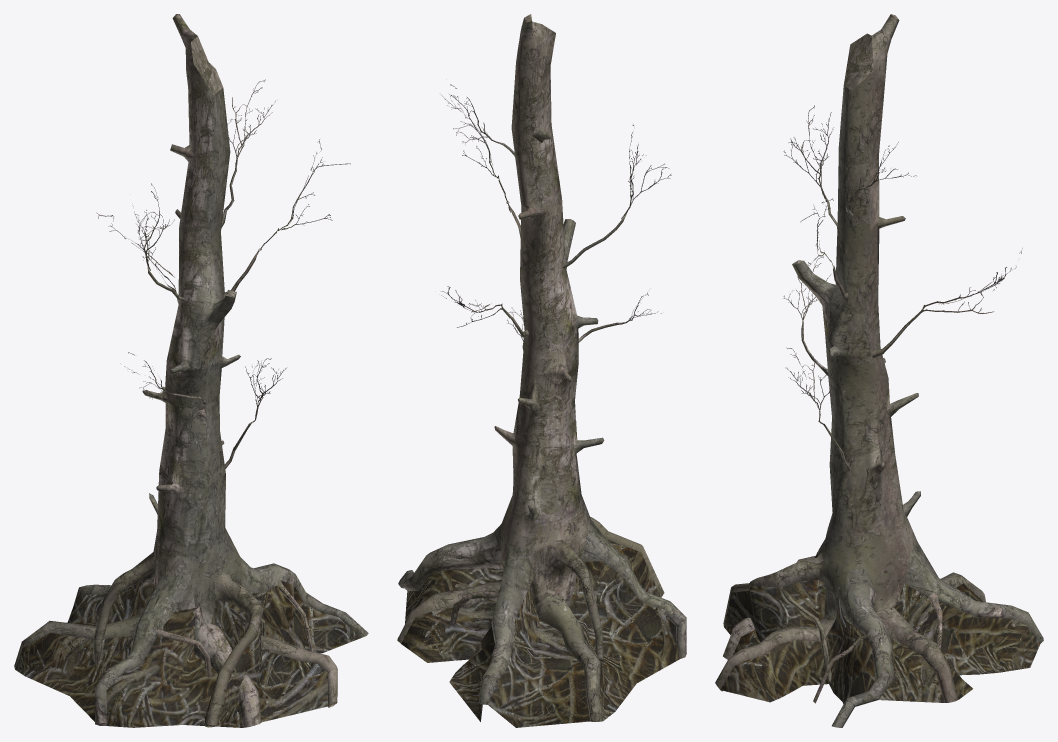
File: SM_Tree_06.fbx
3 renders of one model, left to right at view 1: azimuth 30°, elevation 25°; view 2: azimuth 150°, elevation 25°; view 3: azimuth 270°, elevation 25°, orthographic.
Parts seen in each view (by area): view 1: SM_Tree_06; view 2: SM_Tree_06; view 3: SM_Tree_06.
Boxes of the visible parts, x1,y1,x2,y2 form: SM_Tree_06: (14,14,368,727); SM_Tree_06: (397,14,686,727); SM_Tree_06: (715,14,1043,727).
Bounding box in the file's own units: 473 × 479 × 1065.
Materials: 3 (3 with a texture image).
